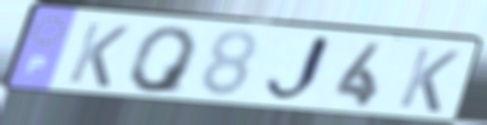4: (330, 40, 386, 111)
8: (195, 28, 265, 103)
J: (261, 32, 337, 107)
K: (63, 20, 134, 91), (394, 45, 464, 116)
Q: (127, 25, 202, 96)
